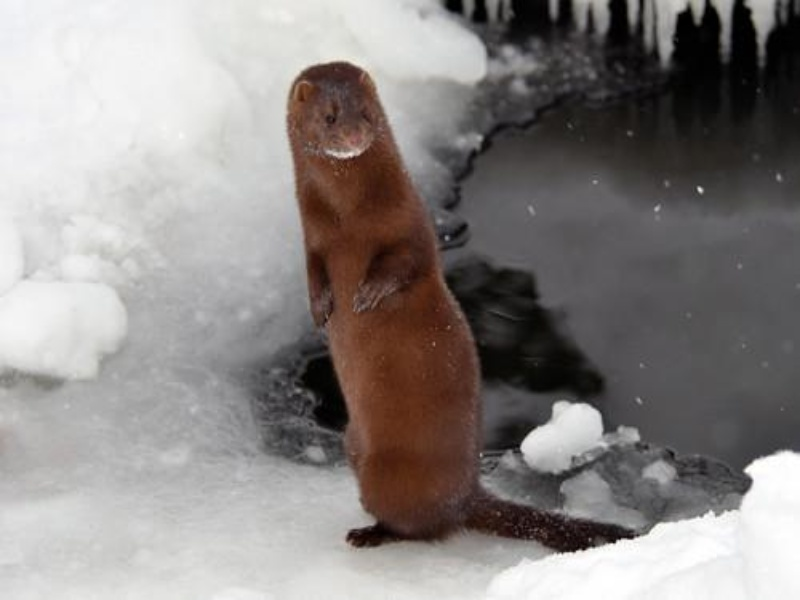minkish: (284, 61, 647, 557)
